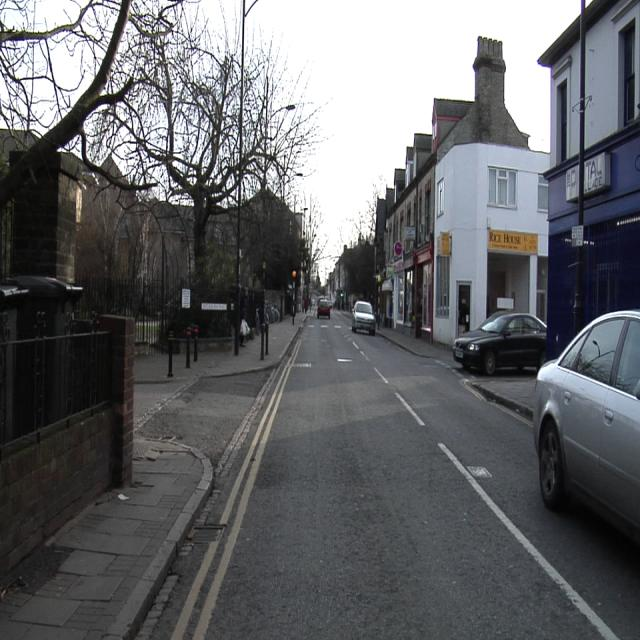Building: (379, 36, 546, 343), (538, 1, 639, 320)
Car: (533, 312, 639, 543), (454, 313, 546, 373), (352, 302, 375, 334), (317, 298, 330, 318)
Road: (158, 314, 638, 639)
Tree: (0, 0, 240, 279), (244, 42, 319, 197), (242, 190, 301, 290)
